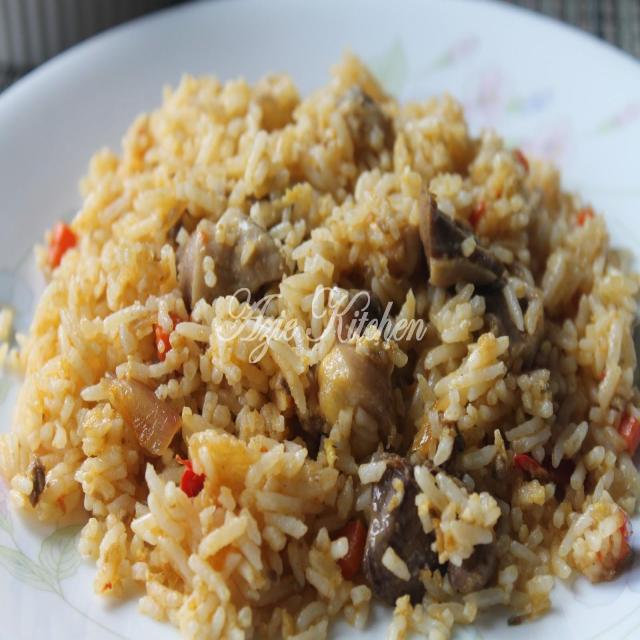Nasi Goreng: (2, 52, 637, 637)
